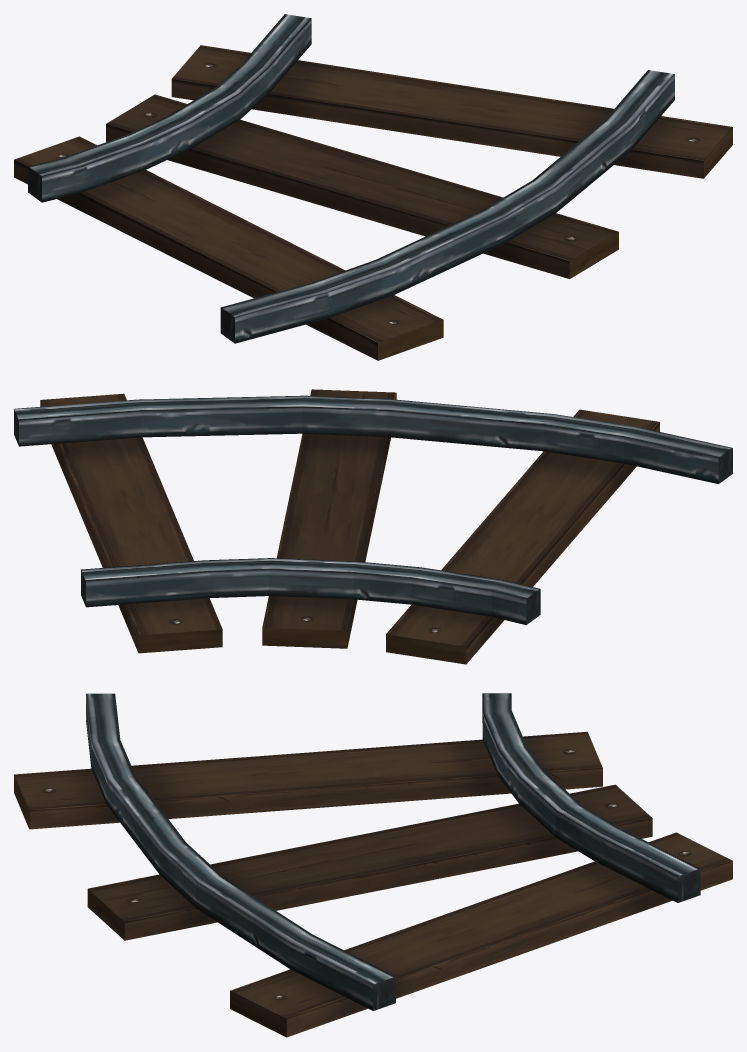
Rendered from rail13.FBX.
The picture shows the model from 3 angles, top to bottom: view 1: azimuth 30°, elevation 25°; view 2: azimuth 150°, elevation 25°; view 3: azimuth 270°, elevation 25°; orthographic projection. The views are drawn at different scales.
Visible parts, largest first — view 1: rail13; view 2: rail13; view 3: rail13.
Part boxes in pixels (bbox=[...]): rail13: bbox=[14, 14, 732, 360]; rail13: bbox=[14, 389, 732, 664]; rail13: bbox=[14, 693, 732, 1037].
Bounding box in the file's own units: 145 × 10.19 × 147.
